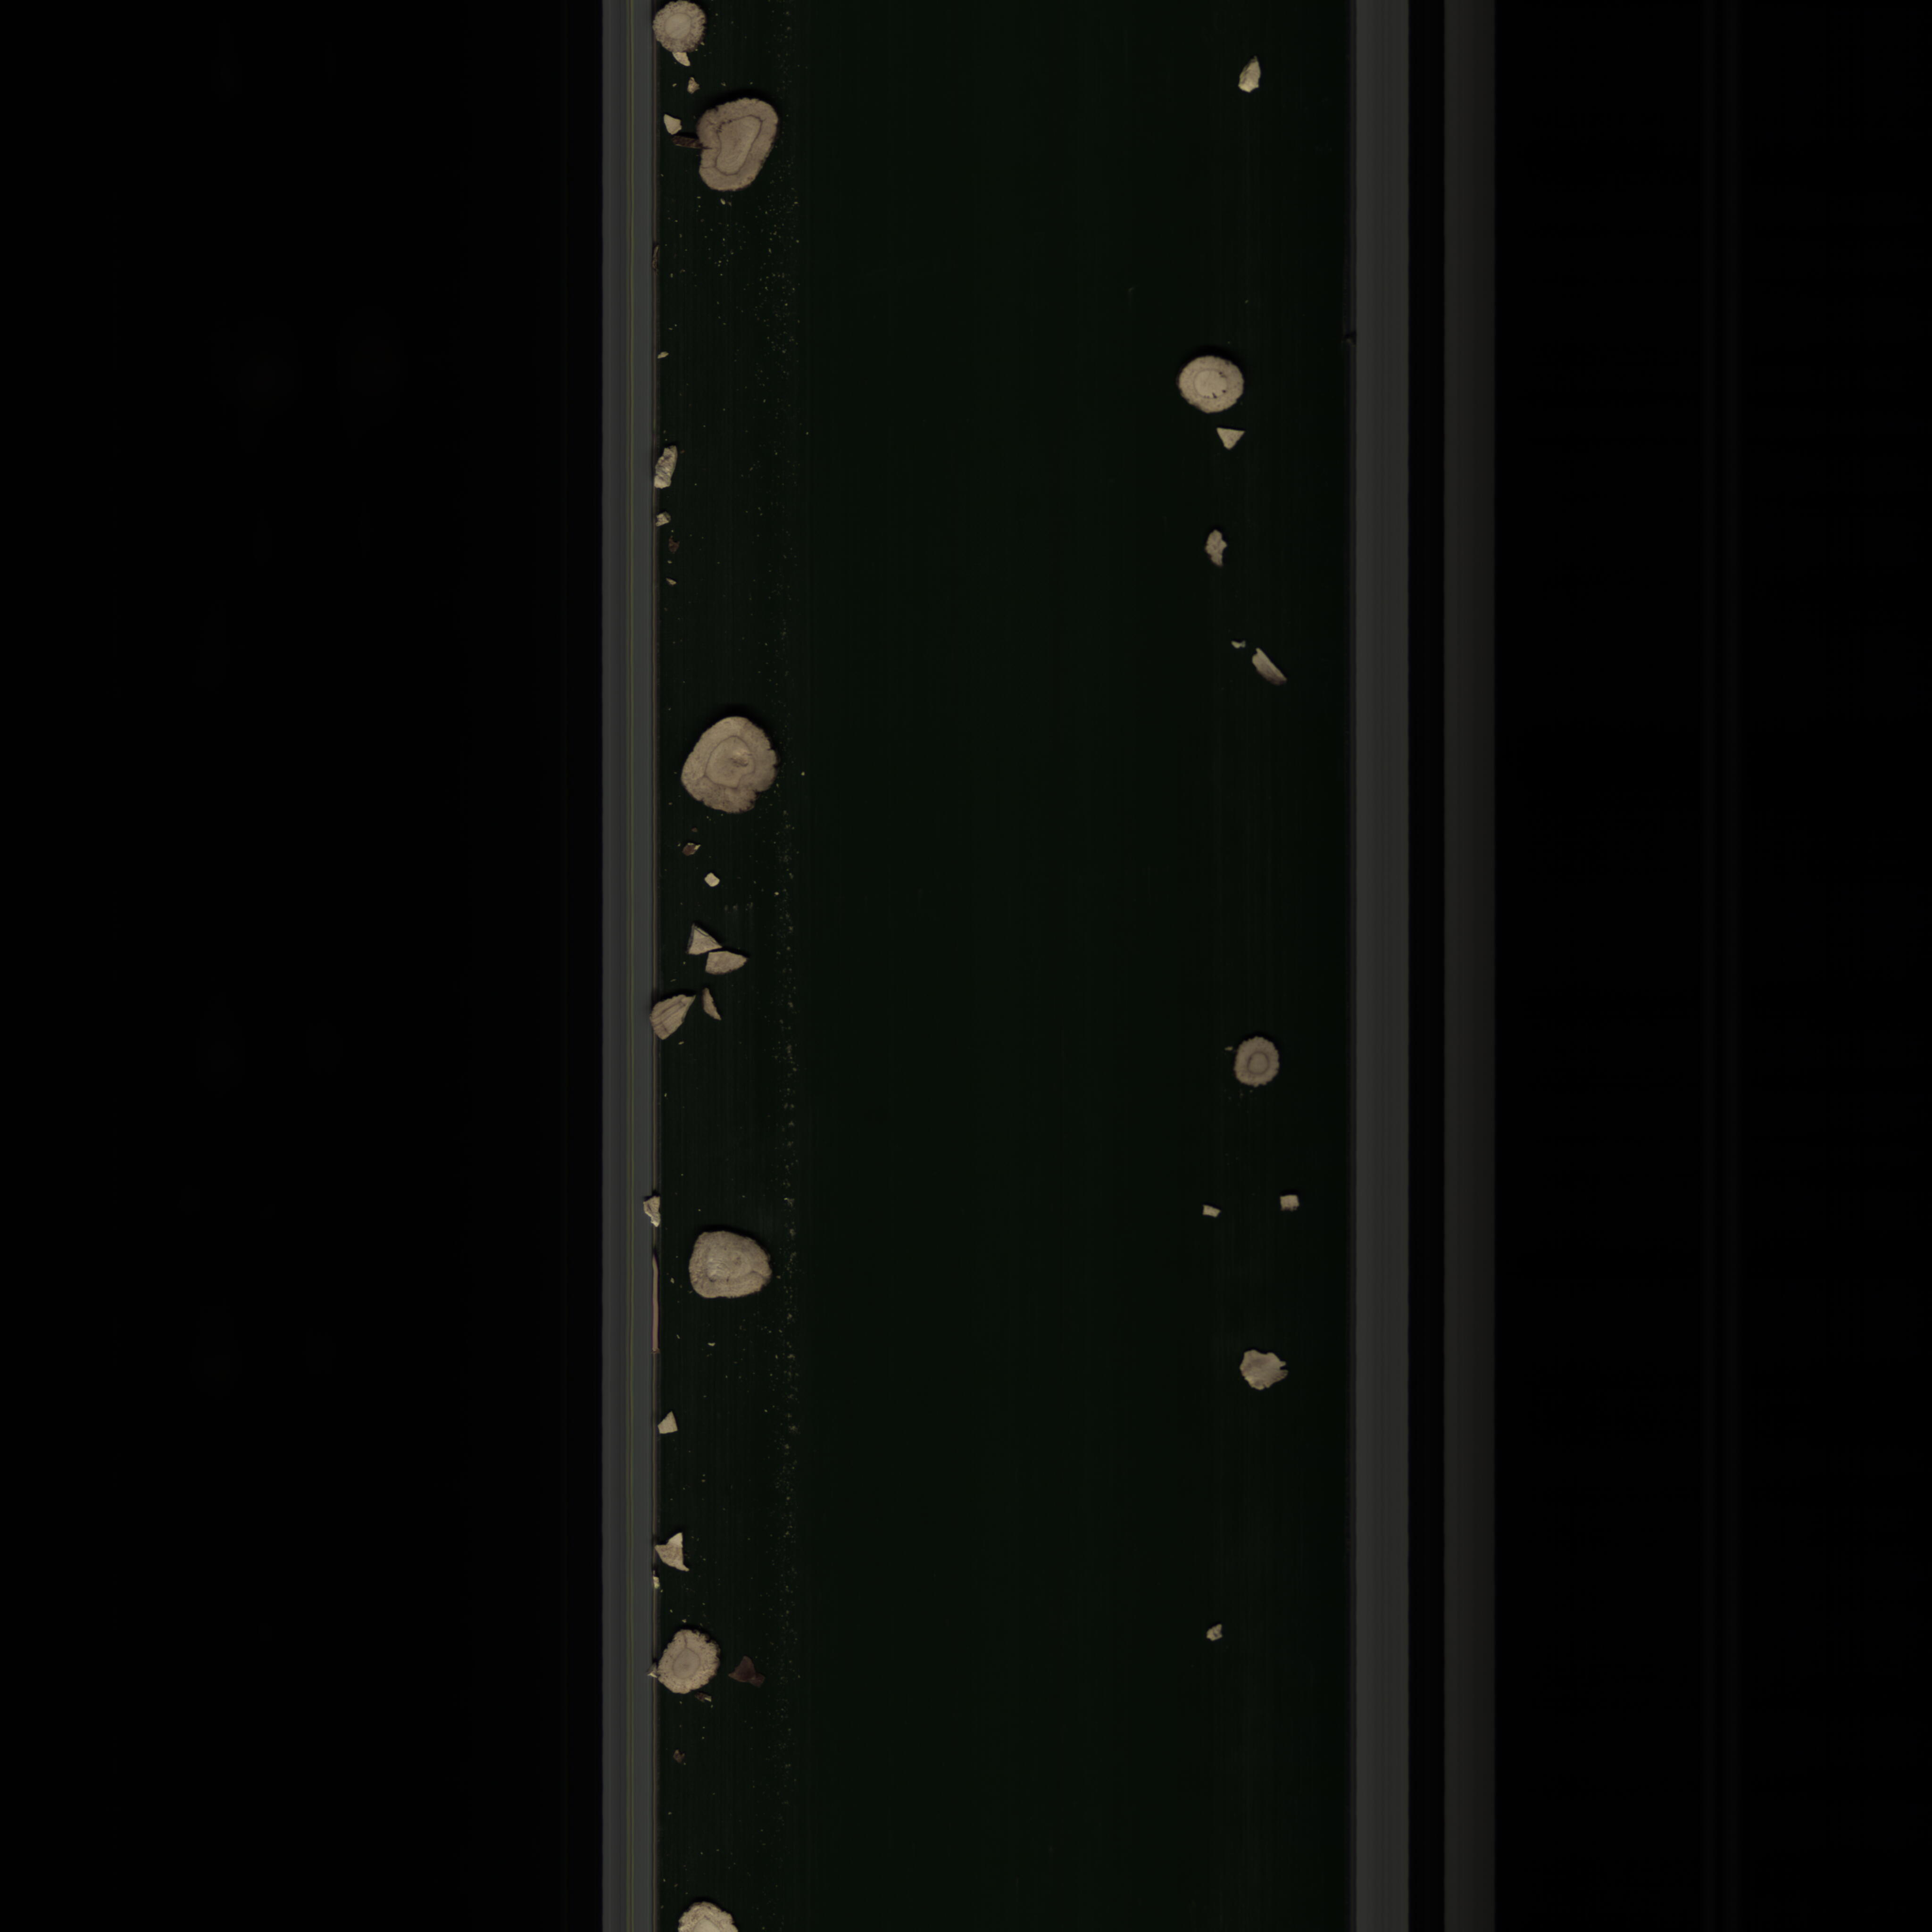debris: (686, 920, 761, 978), (1233, 1343, 1302, 1392), (648, 989, 699, 1042), (655, 1530, 699, 1578), (1251, 646, 1292, 697), (651, 435, 685, 490), (1215, 423, 1258, 453), (1203, 522, 1224, 568), (655, 1410, 681, 1442), (1276, 1191, 1306, 1212)
moldy: (1233, 1030, 1288, 1097)
